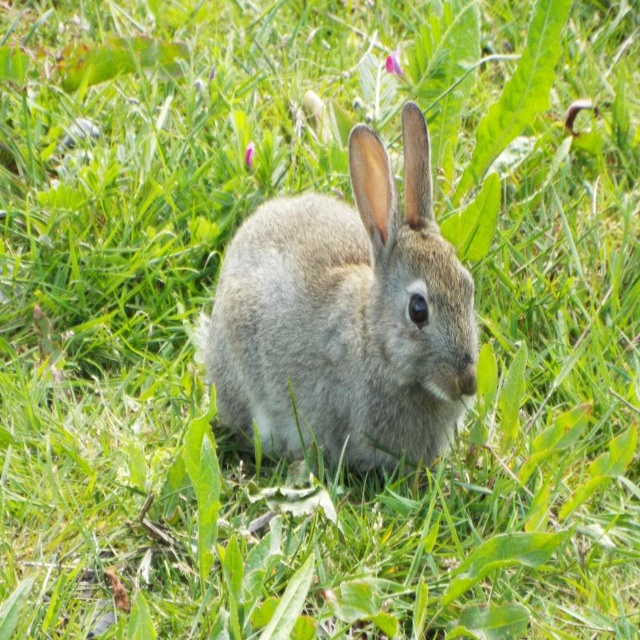Rabbit: (185, 100, 484, 476)
